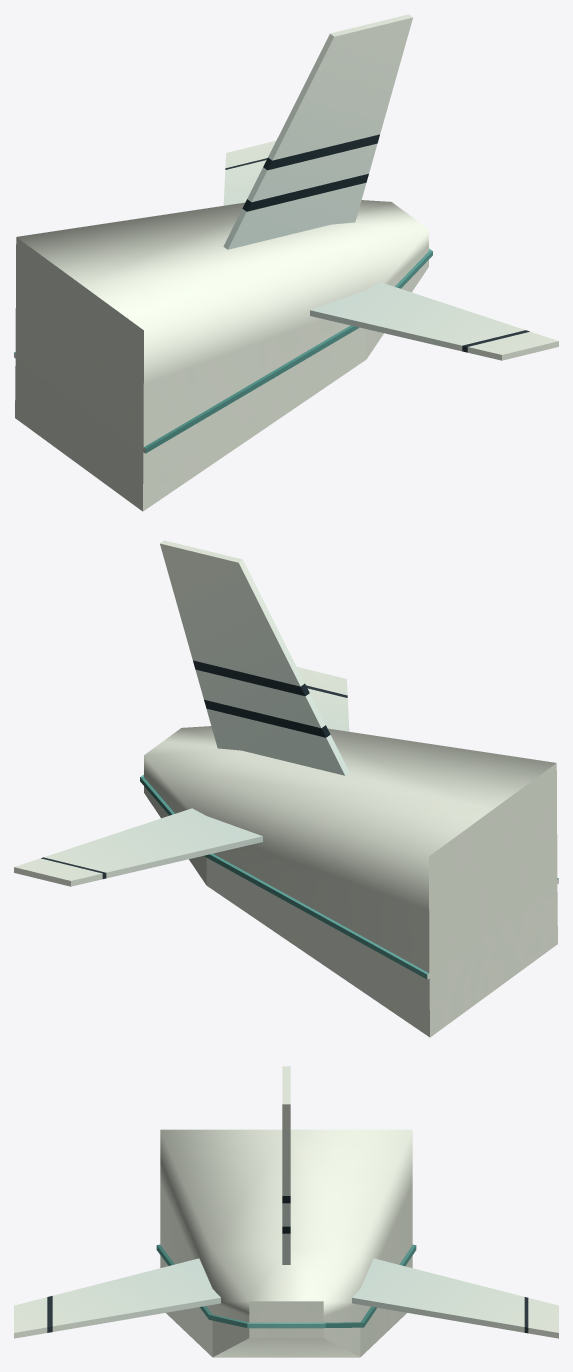
Rendered from Plane_Tail.FBX.
3 views of the same model, one above another, from view 1: azimuth 30°, elevation 25°; view 2: azimuth 150°, elevation 25°; view 3: azimuth 270°, elevation 25° (orthographic).
Visible parts, largest first — view 1: SP_Plane_Tail; view 2: SP_Plane_Tail; view 3: SP_Plane_Tail.
Part boxes in pixels (box(x1,y1,x2,y2)): SP_Plane_Tail: box(14, 14, 558, 511); SP_Plane_Tail: box(14, 540, 558, 1037); SP_Plane_Tail: box(14, 1066, 558, 1357).
Bounding box in the file's own units: 98.37 × 101 × 137.
